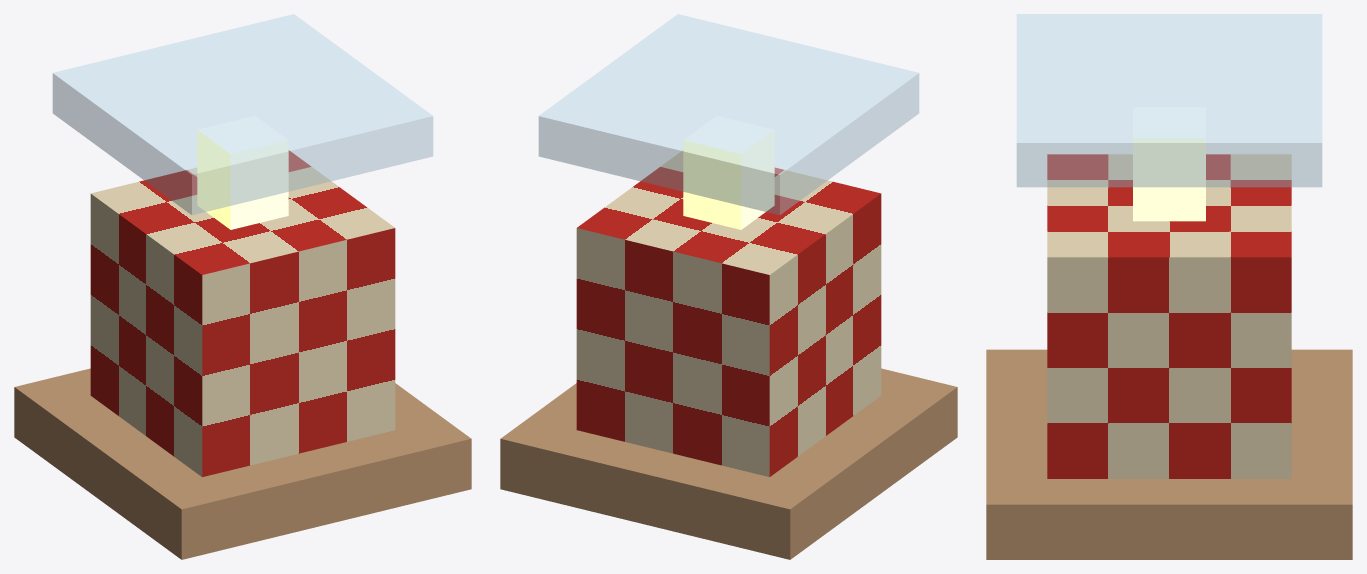
File: lantern.glb
The picture shows the model from 3 angles, left to right: view 1: azimuth 30°, elevation 25°; view 2: azimuth 150°, elevation 25°; view 3: azimuth 270°, elevation 25°; orthographic projection. The views are drawn at different scales.
Parts seen in each view (by area): view 1: body, cap, base, flame; view 2: body, cap, base, flame; view 3: body, cap, base, flame.
Boxes of the visible parts, bbox=[...] form: body: bbox=[90, 150, 395, 477]; cap: bbox=[52, 14, 433, 215]; base: bbox=[14, 368, 471, 559]; flame: bbox=[197, 116, 288, 229]; body: bbox=[576, 150, 881, 477]; cap: bbox=[538, 14, 919, 215]; base: bbox=[500, 368, 957, 559]; flame: bbox=[683, 116, 774, 229]; body: bbox=[1047, 154, 1291, 478]; cap: bbox=[1016, 14, 1322, 187]; base: bbox=[986, 349, 1352, 559]; flame: bbox=[1133, 107, 1205, 221].
Bounding box in the file's own units: 1.2 × 1.46 × 1.2.
Materials: 4 (1 with a texture image).
